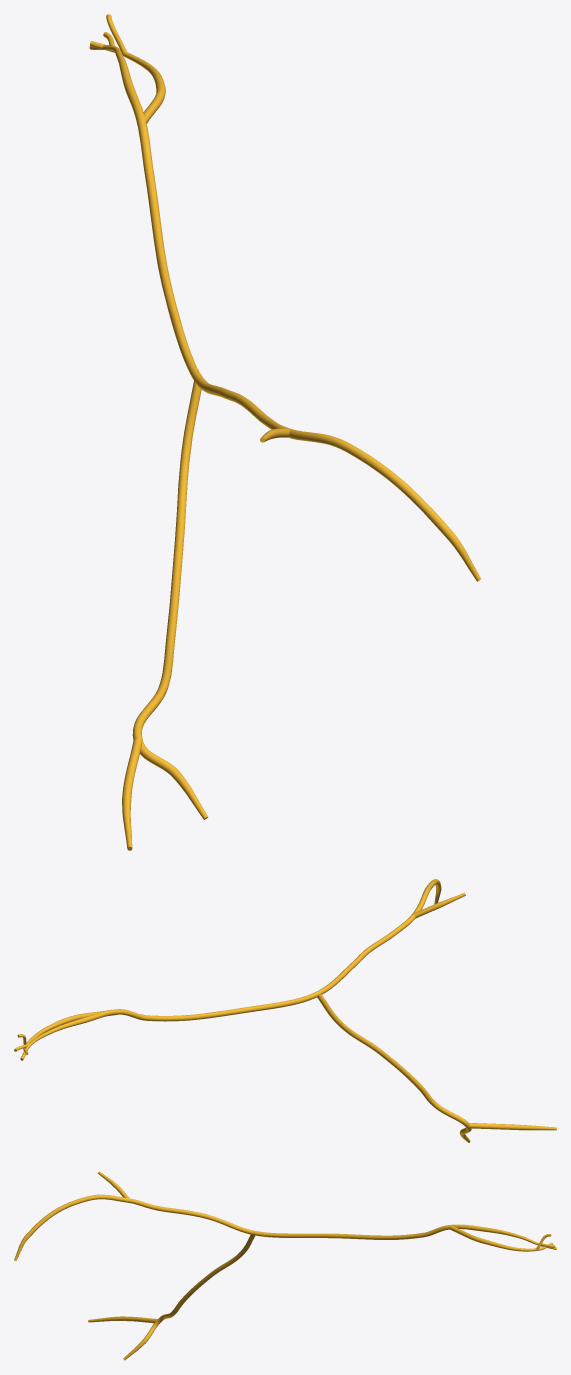
The model's file is nervoso-oculomotor-nerve-iii-r.glb.
3 renders of one model, top to bottom at view 1: azimuth 30°, elevation 25°; view 2: azimuth 150°, elevation 25°; view 3: azimuth 270°, elevation 25°, orthographic. The views are drawn at different scales.
Visible parts, largest first — view 1: Oculomotor nerve (III).r; view 2: Oculomotor nerve (III).r; view 3: Oculomotor nerve (III).r.
Part boxes in pixels (box(x1,y1,x2,y2)): Oculomotor nerve (III).r: box(89, 14, 481, 850); Oculomotor nerve (III).r: box(14, 879, 556, 1142); Oculomotor nerve (III).r: box(14, 1171, 556, 1360).
Size of the model in its own units: 0.0389 by 0.0341 by 0.0813.
